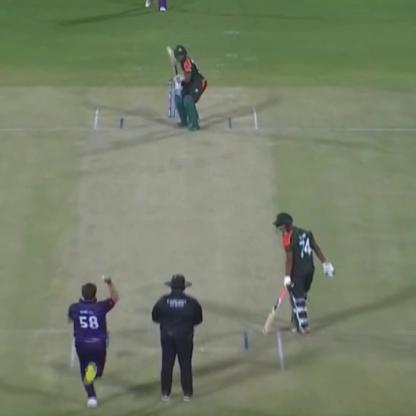ball: (98, 272, 113, 287)
bat: (259, 268, 287, 340), (158, 41, 184, 78)
pitch: (63, 98, 292, 398)
